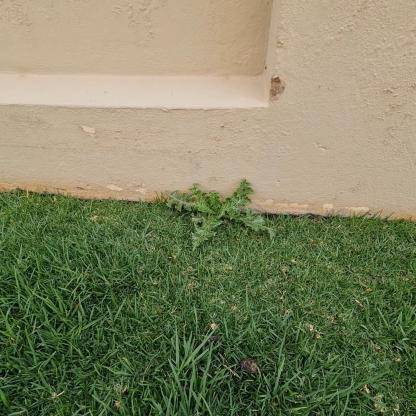Weeds: (165, 177, 277, 249)
